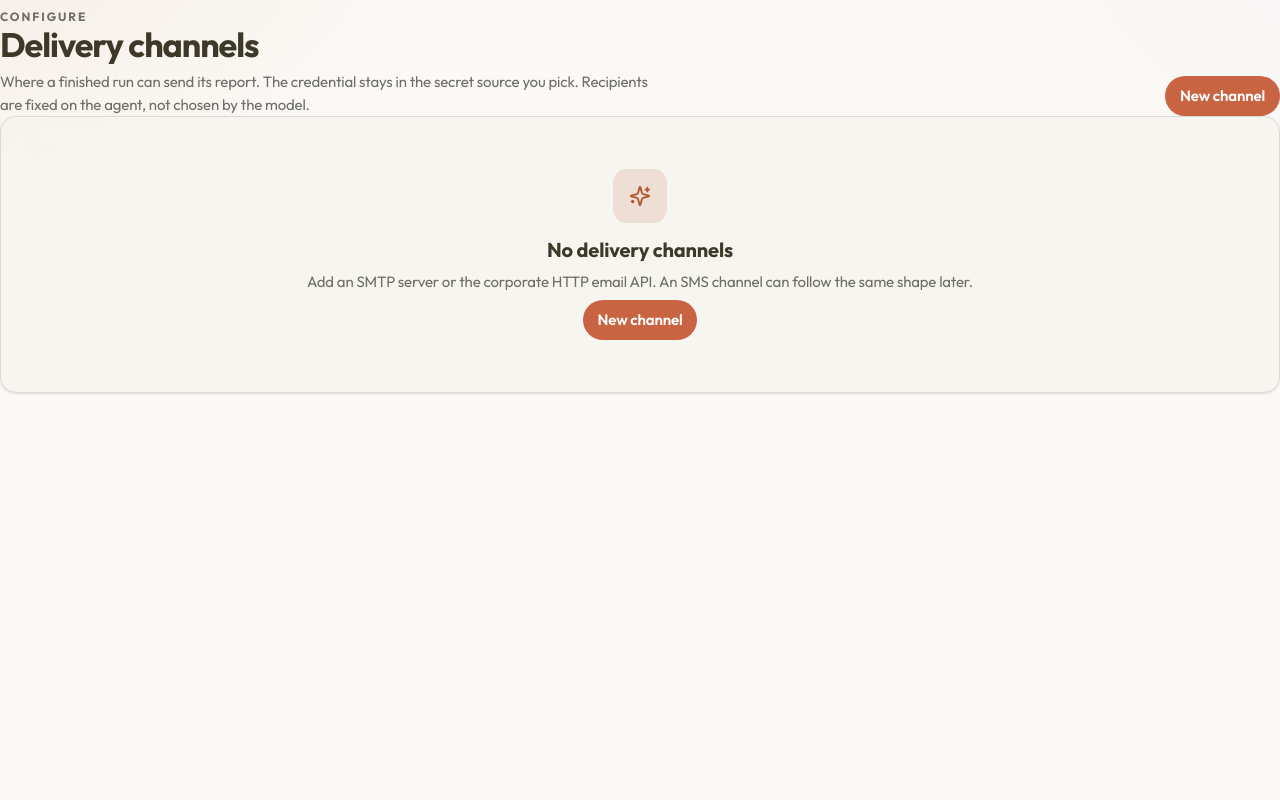
Test: Delivery channels › shows the HTTP API fields when that type is selected
Expected: the heading "Delivery channels" is shown, [0,23,259,66]
Click the 1st button "New channel" at [1223, 96], box [1165,76,1279,116]
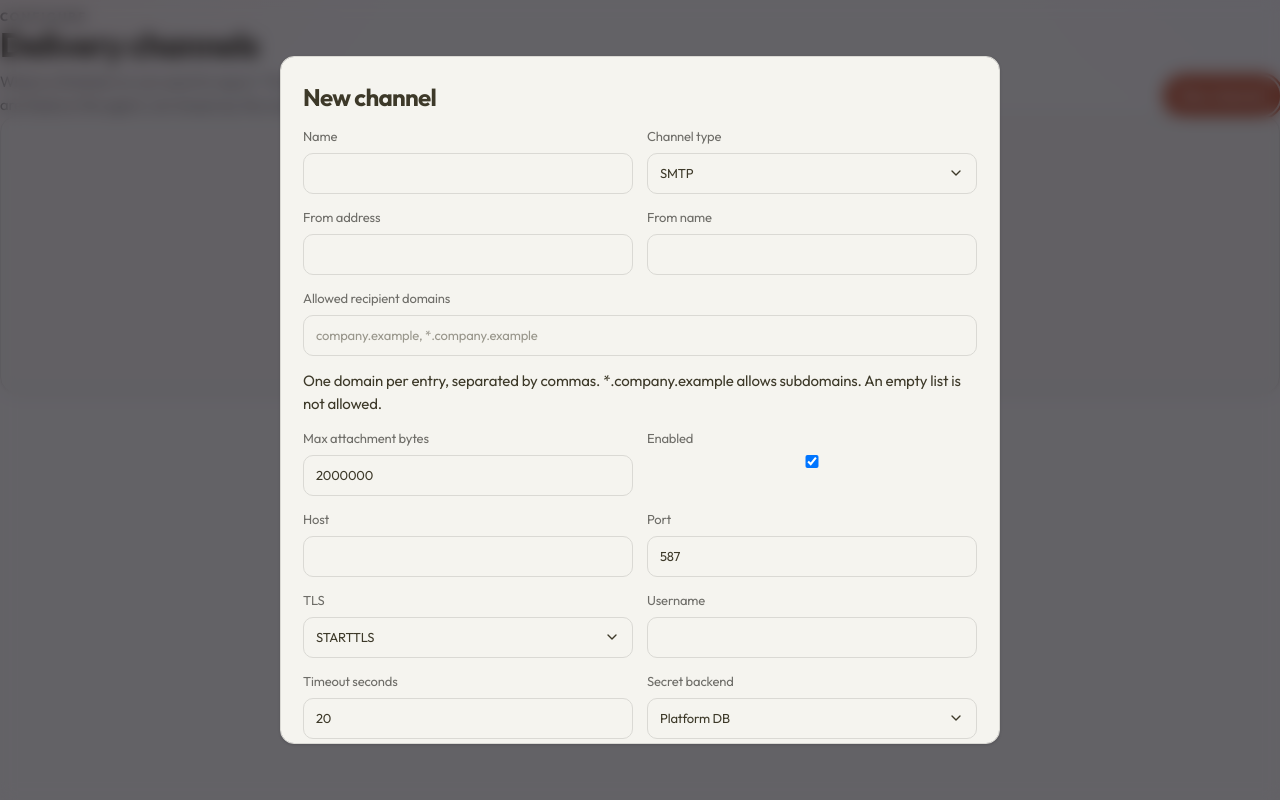
Click the button with aria-label "Channel type" at [677, 172], box [647,152,977,194]
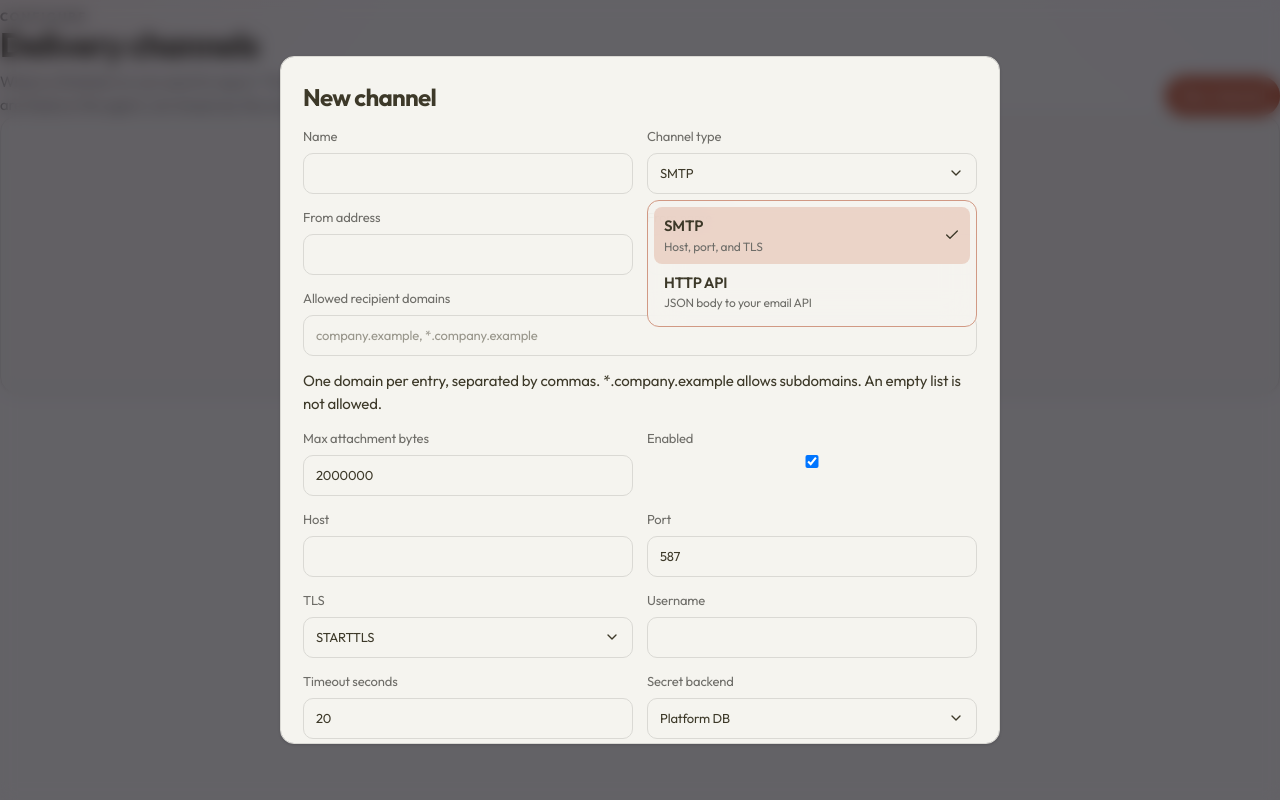
Click the option "HTTP API JSON body to your email API" at [696, 282], box [654,264,970,320]
(page scrolled)
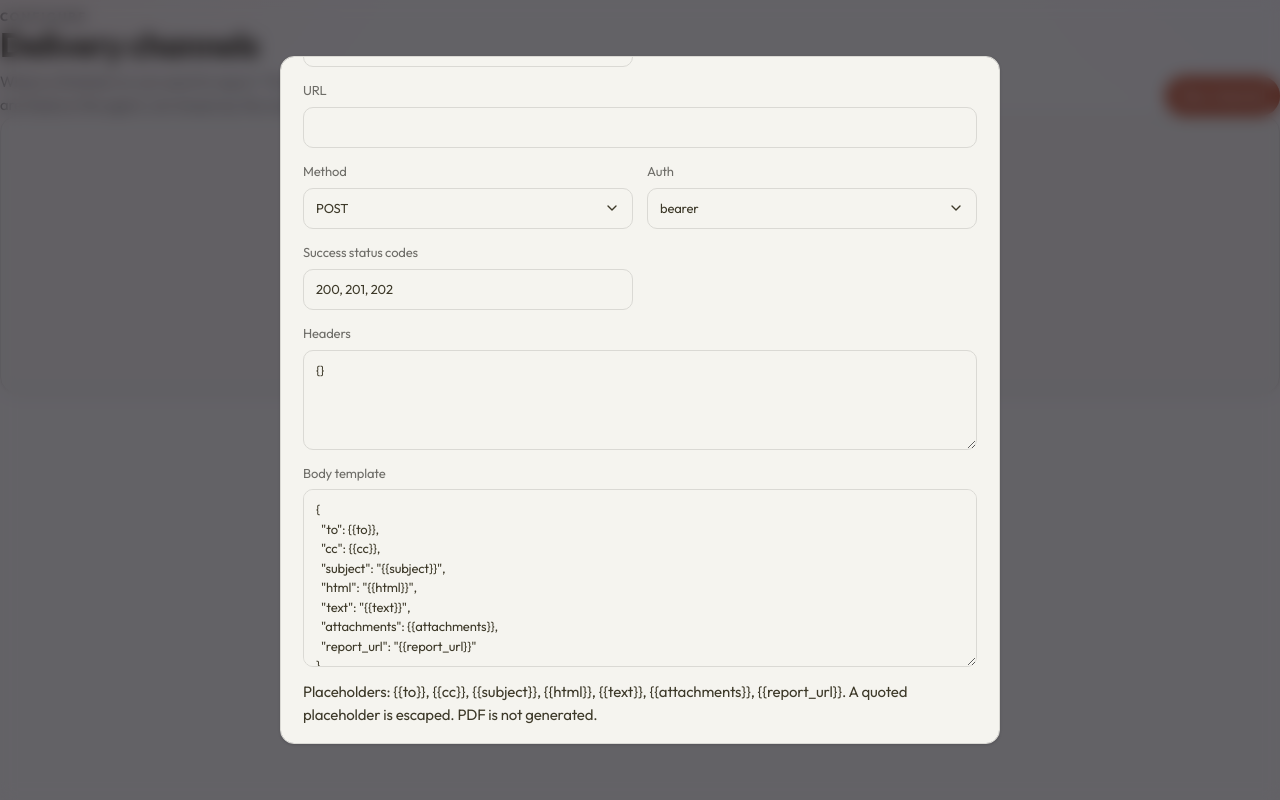
Now the field labelled "URL" is shown, box [303,106,977,148]
Now the text box labelled "Headers" is shown, box [303,350,977,450]
Now the label "Host" is gone
